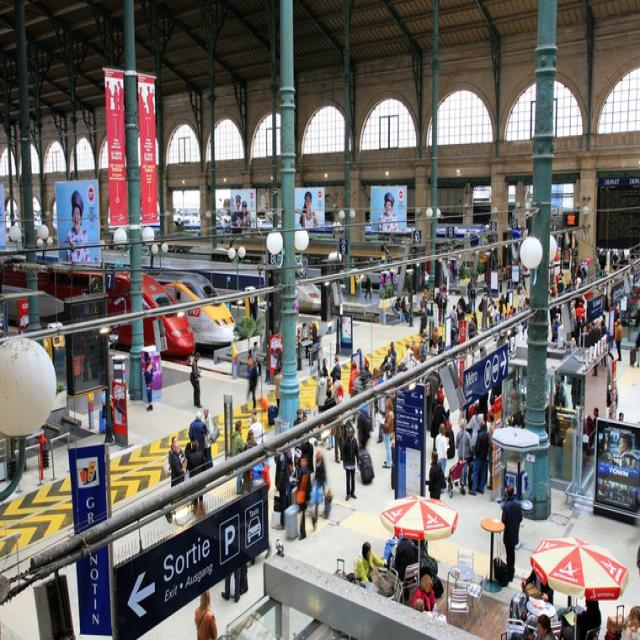body: (398, 319, 478, 365), (58, 190, 100, 272), (597, 429, 638, 505), (476, 290, 530, 347), (546, 241, 594, 295), (498, 484, 524, 583), (222, 548, 260, 605), (386, 529, 435, 565), (185, 439, 207, 519), (394, 536, 419, 606), (468, 418, 490, 496), (294, 454, 313, 543), (454, 417, 474, 496), (375, 395, 395, 471), (341, 425, 361, 500), (353, 542, 388, 583), (520, 566, 555, 604), (194, 588, 219, 640), (274, 451, 290, 532), (573, 597, 602, 640), (374, 189, 401, 235), (355, 347, 372, 419), (202, 406, 221, 468), (230, 419, 245, 496), (427, 450, 447, 502), (598, 246, 631, 277), (410, 573, 436, 612), (296, 190, 320, 232), (465, 404, 485, 453), (434, 422, 451, 476), (312, 451, 328, 506), (245, 356, 259, 417), (188, 416, 209, 456), (230, 192, 253, 228), (189, 350, 203, 409), (315, 368, 328, 430), (169, 443, 186, 489), (332, 394, 343, 464), (293, 406, 305, 468), (586, 319, 599, 376), (356, 405, 372, 451), (297, 432, 315, 472), (486, 412, 495, 491), (140, 354, 152, 412), (600, 318, 614, 366), (620, 607, 640, 640), (248, 410, 266, 446), (272, 364, 284, 416), (536, 612, 558, 640), (504, 270, 529, 292), (630, 318, 640, 372), (168, 436, 185, 464), (348, 360, 360, 398), (242, 426, 260, 451), (329, 355, 342, 386), (614, 318, 623, 362), (333, 371, 345, 404), (392, 296, 405, 326), (388, 340, 398, 378), (550, 312, 562, 343), (252, 341, 262, 377), (630, 538, 640, 574), (380, 349, 396, 371), (418, 288, 429, 320), (468, 283, 478, 314), (323, 388, 337, 410), (434, 292, 443, 324), (400, 296, 410, 324), (575, 301, 587, 323), (251, 460, 264, 480), (441, 289, 448, 324), (466, 276, 474, 304), (412, 596, 424, 613), (449, 303, 459, 323), (364, 274, 372, 299), (591, 406, 600, 426), (321, 356, 329, 377), (616, 410, 629, 422)
